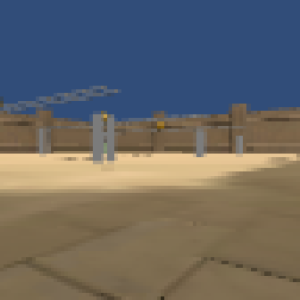goodGoalMulti: (101, 106, 109, 122), (156, 120, 167, 131)
wall: (93, 113, 103, 164), (36, 128, 54, 155), (106, 115, 115, 161), (196, 127, 207, 159), (235, 133, 245, 154)
